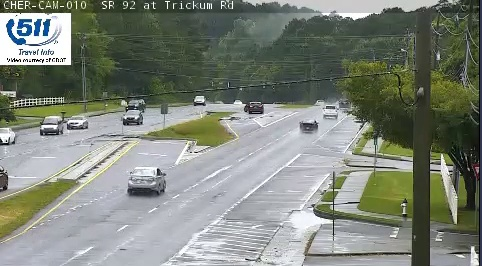car: (129, 167, 166, 192), (300, 119, 317, 133)
